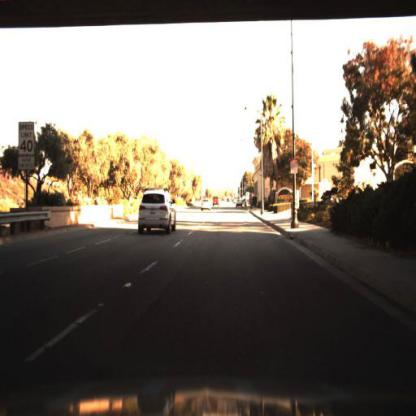car: (125, 178, 186, 243), (198, 198, 216, 219), (234, 196, 244, 214), (211, 194, 221, 208)
